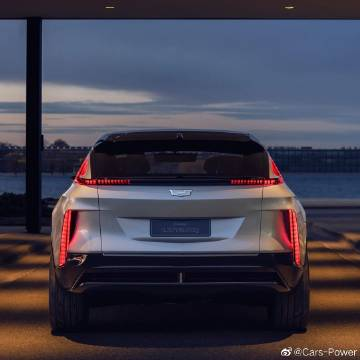other: (42, 122, 315, 334)
